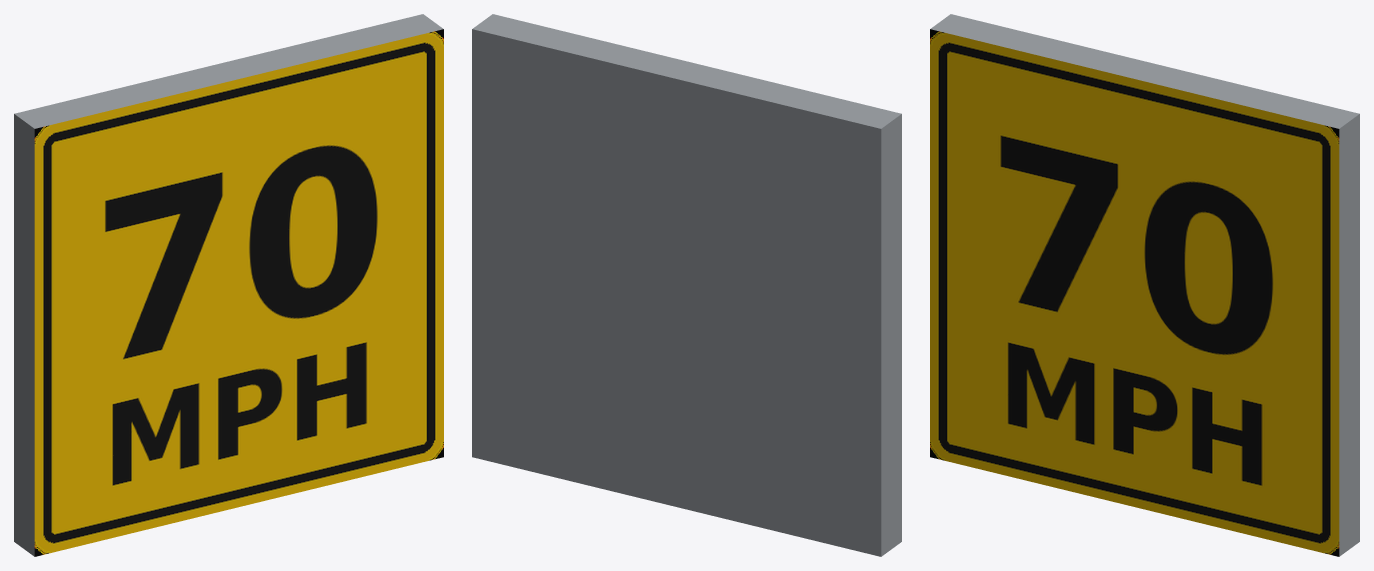
The model's file is us_advisory70.dae.
3 renders of one model, left to right at view 1: azimuth 30°, elevation 25°; view 2: azimuth 150°, elevation 25°; view 3: azimuth 330°, elevation 25°, orthographic.
Visible parts, largest first — view 1: sign4, Colmesh-1; view 2: Colmesh-1; view 3: sign4, Colmesh-1.
Part boxes in pixels (left/top/right/bottom): sign4: left=34, top=29, right=443, bottom=556; Colmesh-1: left=14, top=14, right=443, bottom=556; Colmesh-1: left=472, top=14, right=901, bottom=556; sign4: left=930, top=29, right=1339, bottom=556; Colmesh-1: left=930, top=14, right=1359, bottom=556.
Size of the model in its own units: 0.4572 by 0.04 by 0.4572.
2 materials, 1 textured.
